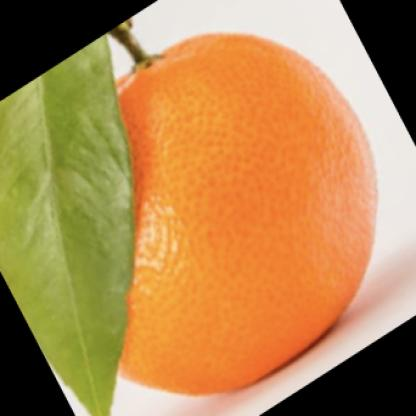fresh: (60, 33, 380, 395)
